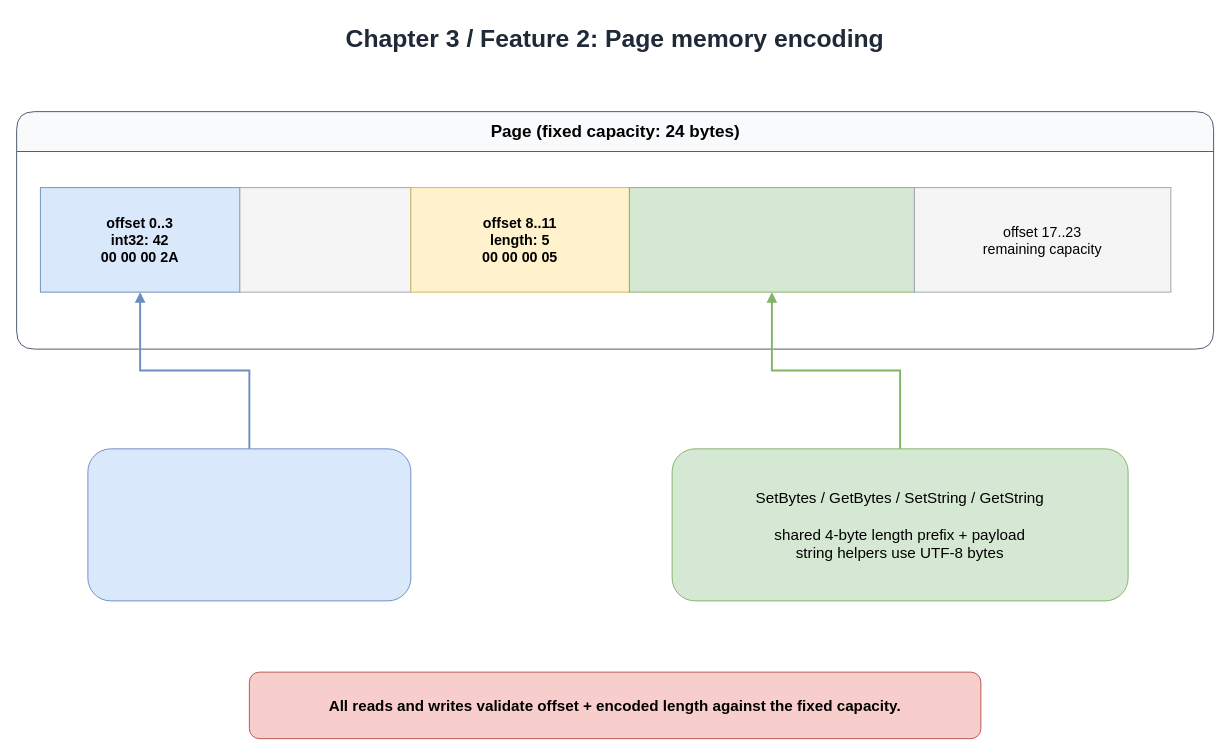
Image size: 1230x755. Some labels were removed from this diagram. Each missing label, with the centre of its shape:
"offset 12..16 payload (5 bytes) 68 65 6C 6C 6F" goes at (x=771, y=239).
"offset 4..7 unused" goes at (x=325, y=239).
"SetInt(0, 42) / GetInt(0) 4-byte signed integer big-endian" goes at (x=249, y=524).
